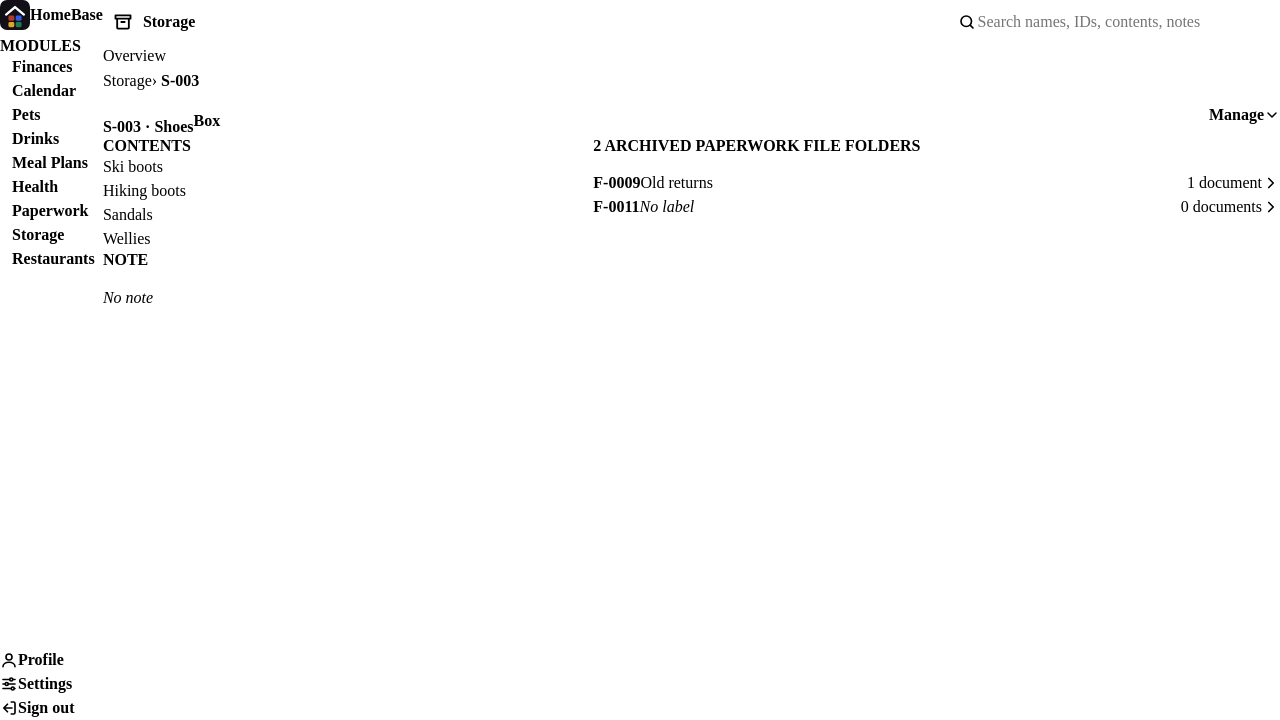
Test: a Storage entry (REQ-107, REQ-98) › shows the label to reprint
Step 1. Click the button "Manage" → point(1244, 115), box [1209, 93, 1279, 137]
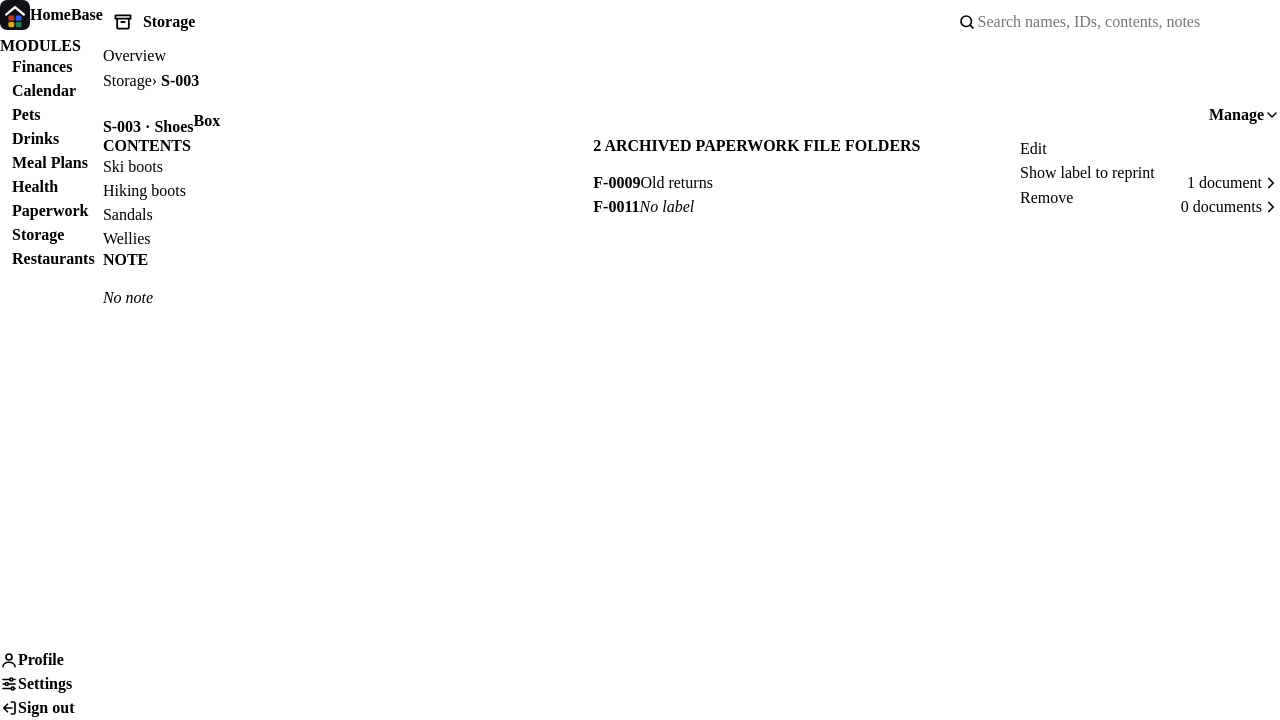
Step 2. Click the button "Show label to reprint" → point(1150, 173), box [1020, 161, 1279, 185]
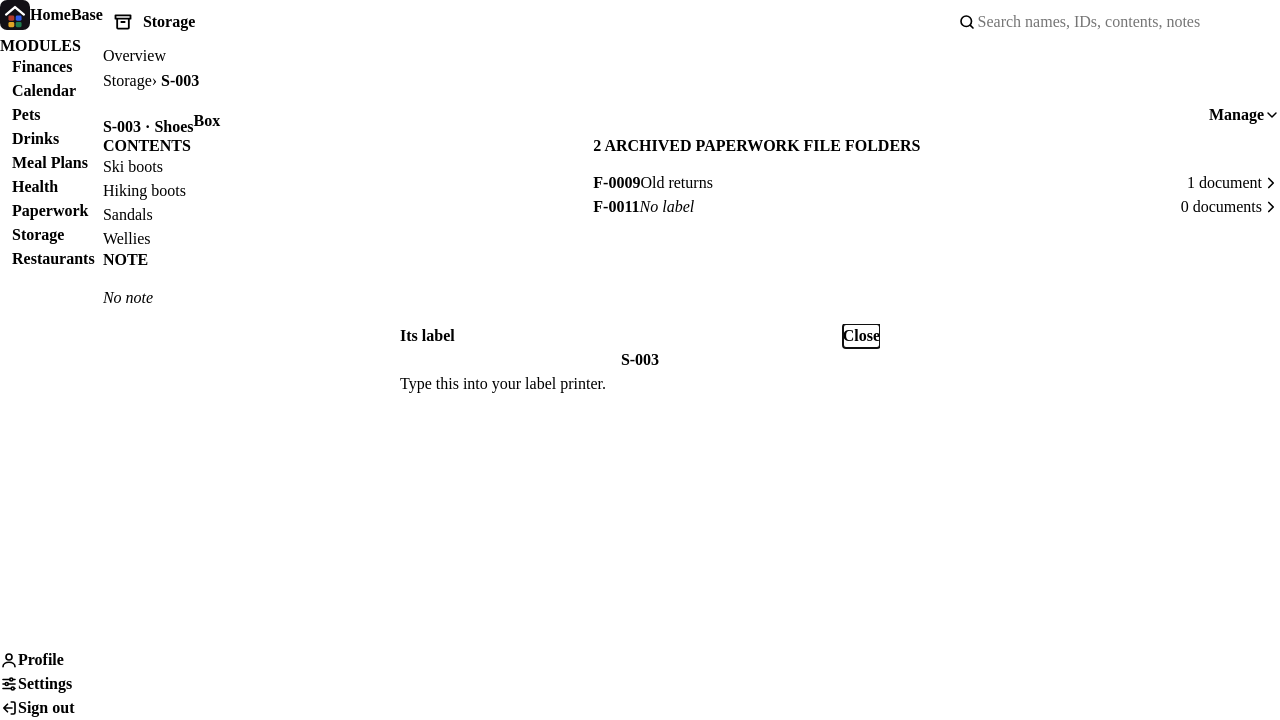
Expected: the text named "ID: S-003" reads "S-003", [621, 351, 659, 368]
